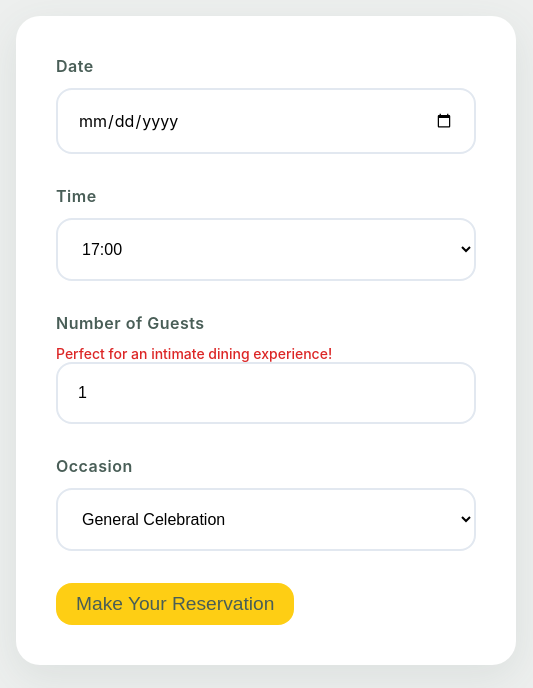
Scenario: BookingForm › shows error when guest number is too high
// simulate entering 11 guests
Replace the text in the number field labelled "Number of Guests" with "11": x=266, y=393 left=56, top=362, right=476, bottom=424
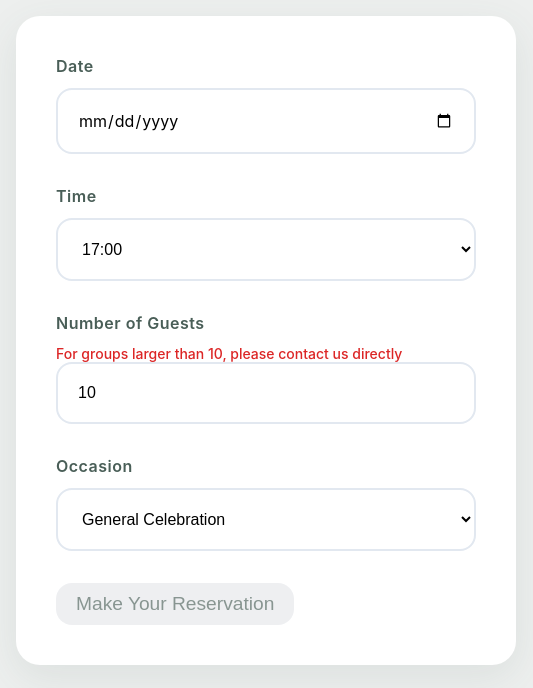
Expected: the text "For groups larger than 10, please contact us directly" is shown, left=56, top=345, right=402, bottom=362
